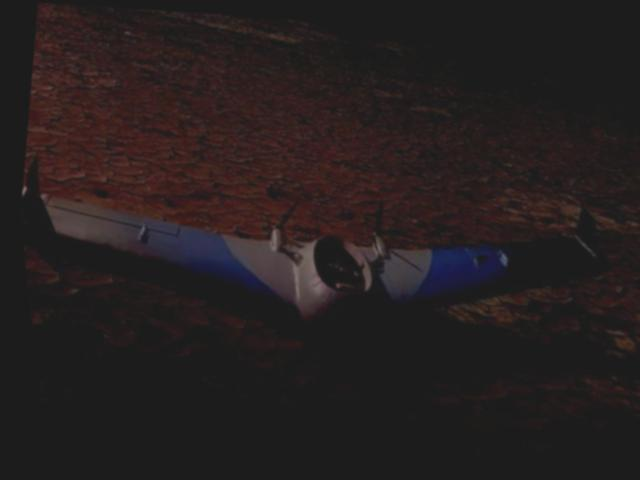iha: (5, 64, 629, 408)
